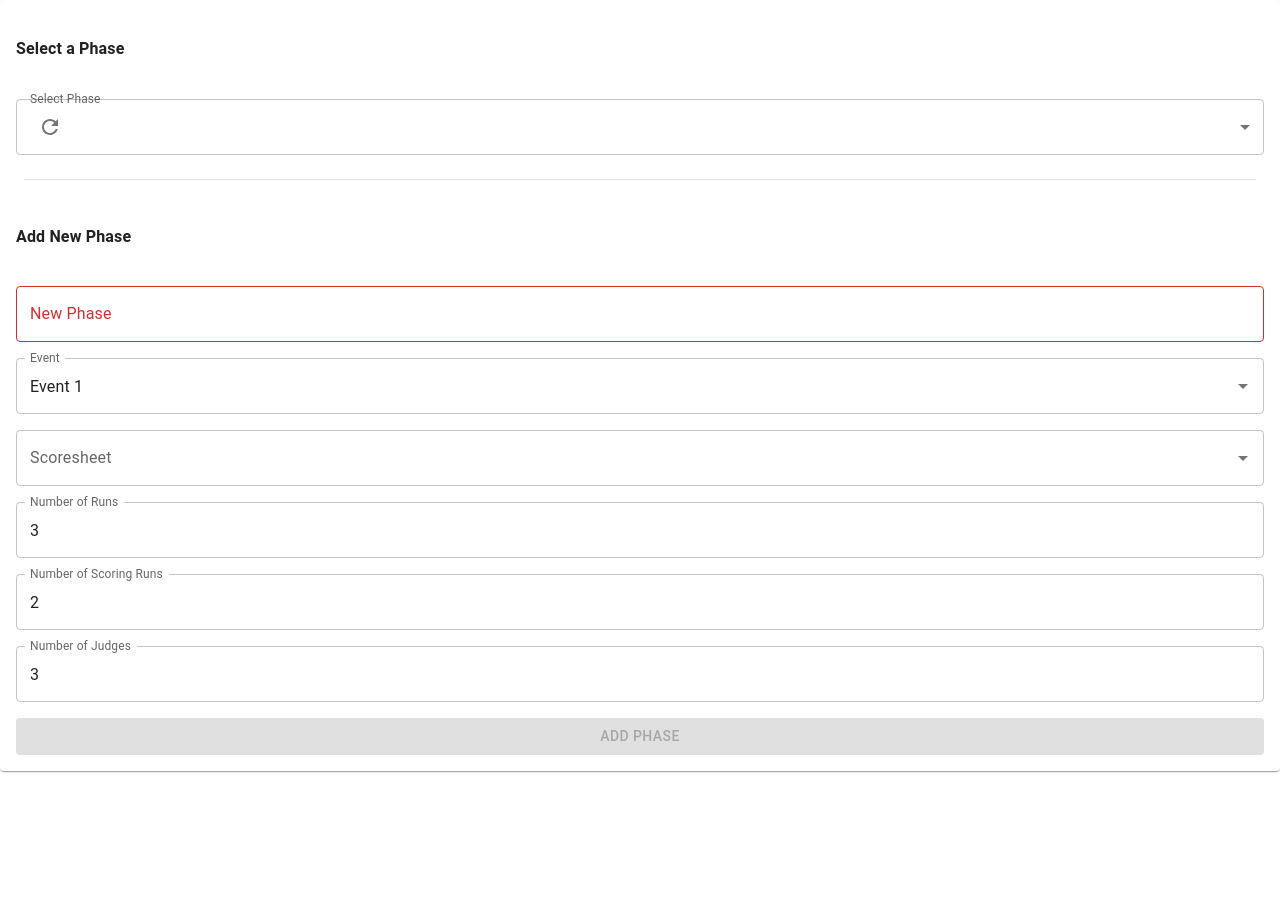
Test case: PhaseSelector › adds a new phase and shows it in the selector
Expected: the heading "Add New Phase" is shown, [16,227,131,246]
In the field labelled "New Phase": (640, 314) [16,286,1264,342], type "Semi Final"
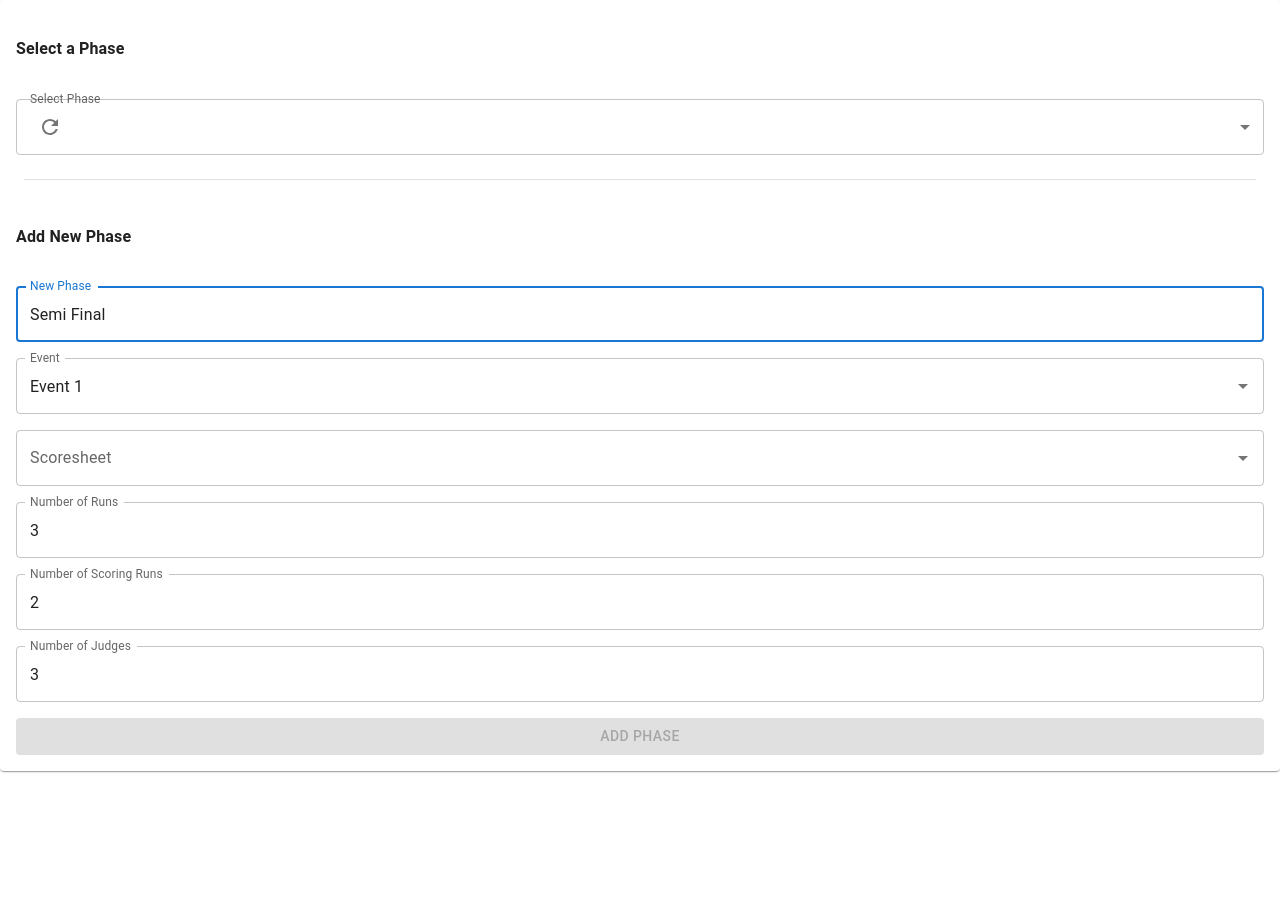
Click the dropdown labelled "Scoresheet": (625, 458) [25,439,1225,477]
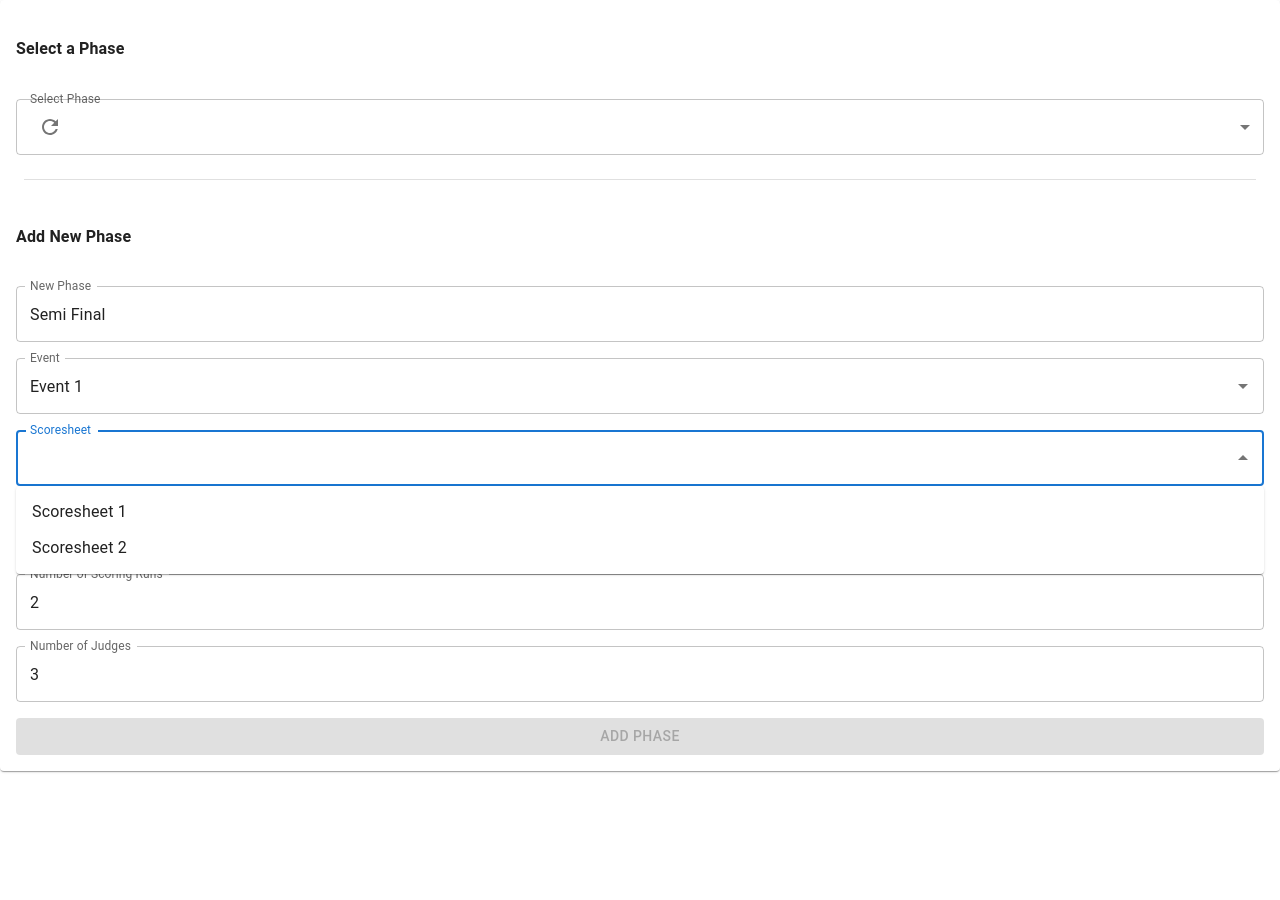
Click the option "Scoresheet 1": (79, 512) [32,502,127,521]
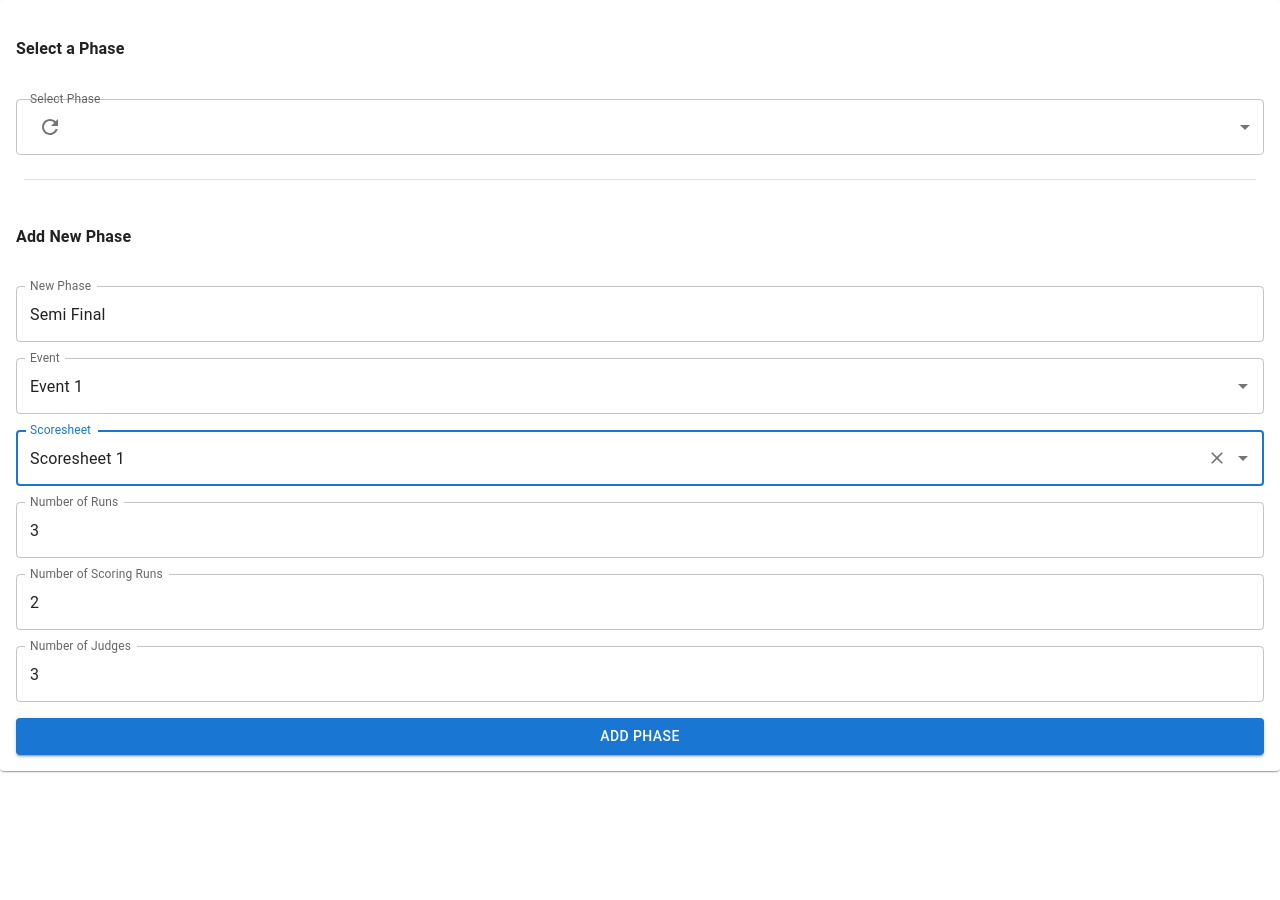
Expected: the button "Add Phase" is enabled
Click the button "Add Phase": (640, 736) [16,718,1264,755]
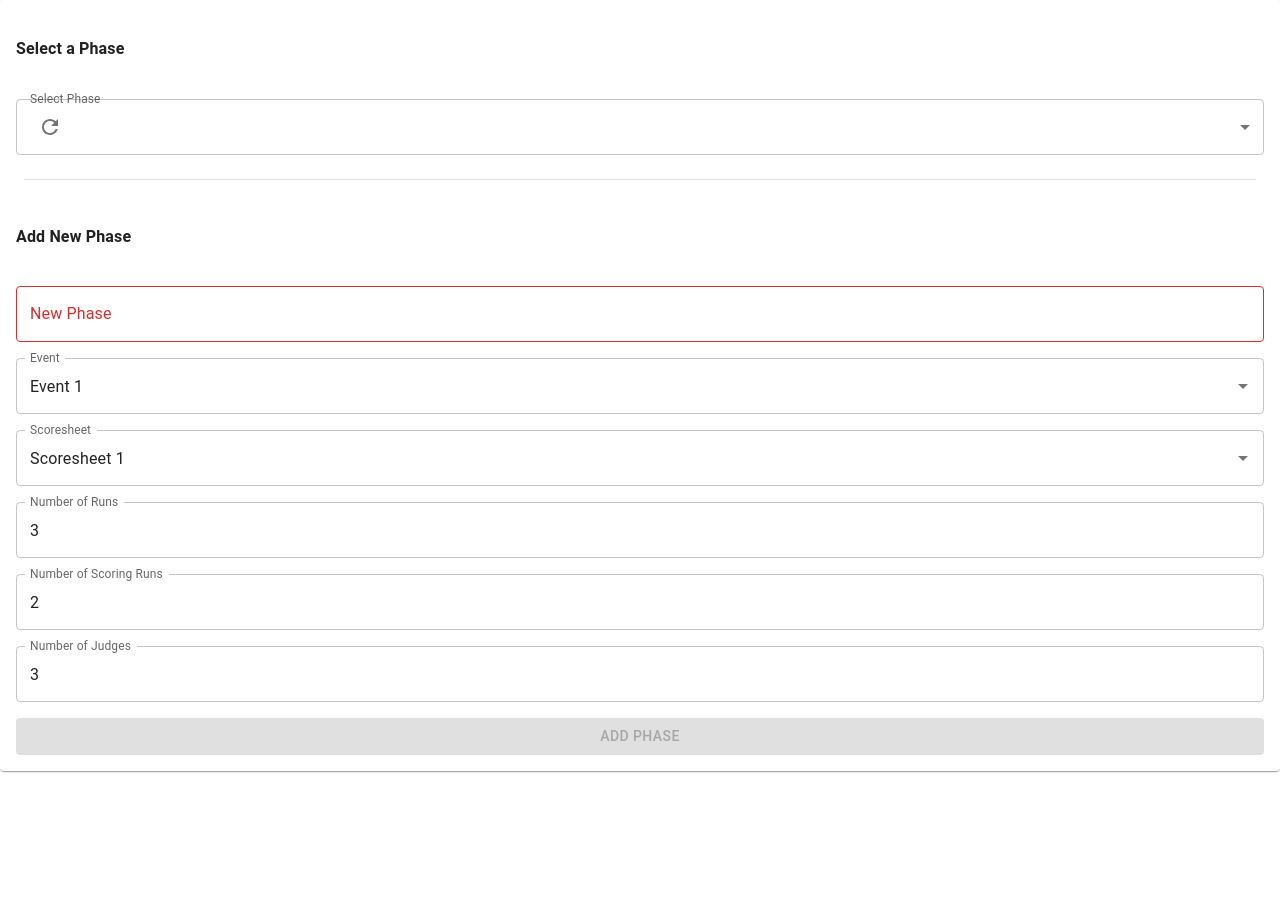
Click the dropdown named "Select Phase": (667, 126) [70,98,1264,154]
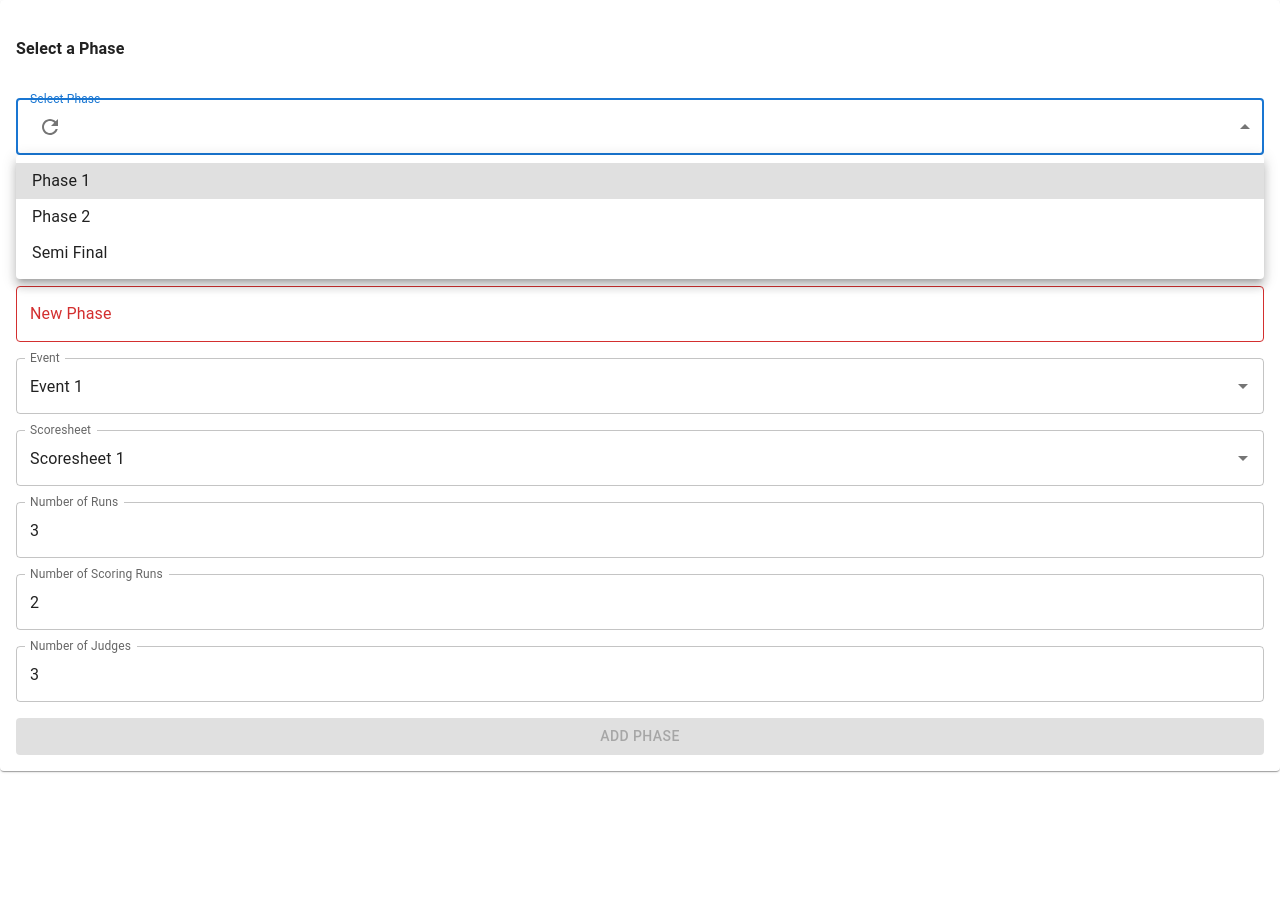
Expected: the option "Semi Final" is shown, [32,243,108,262]
